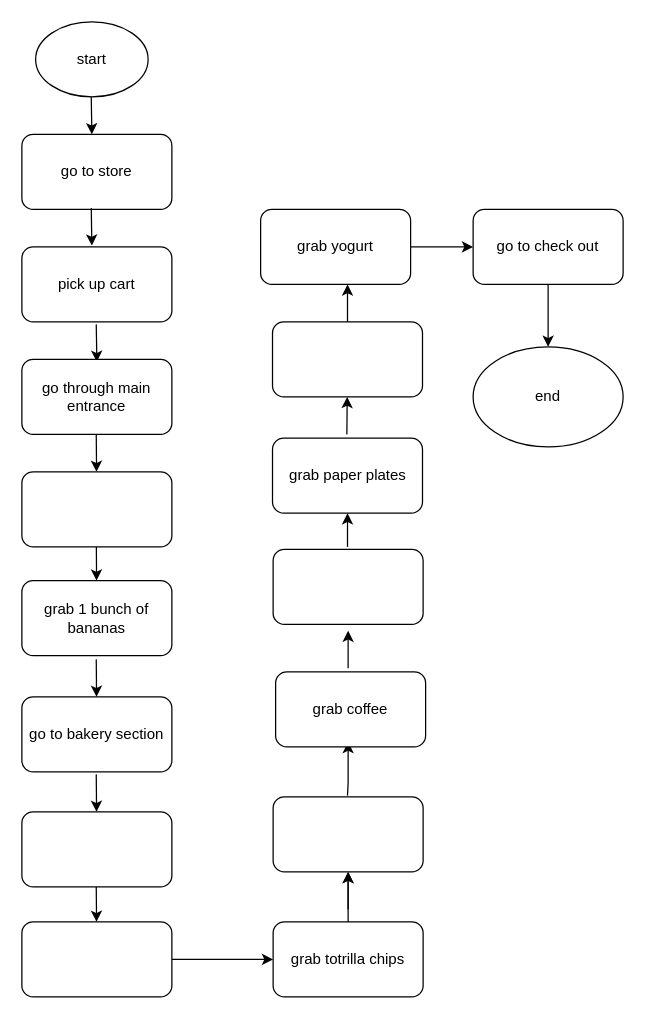
Image size: 645x1019. Some labels were removed from this diagram. Here are the shapes that lost their labels. From the top down, the centre of each, then its label:
(x=346, y=359): grab 2 frozen veggie pizzas
(x=96, y=509): go to produce section
(x=347, y=586): grab bag of black beans
(x=96, y=849): pick up party cake
(x=347, y=834): grab salsa
(x=96, y=959): grab bag of packaged salad mix
